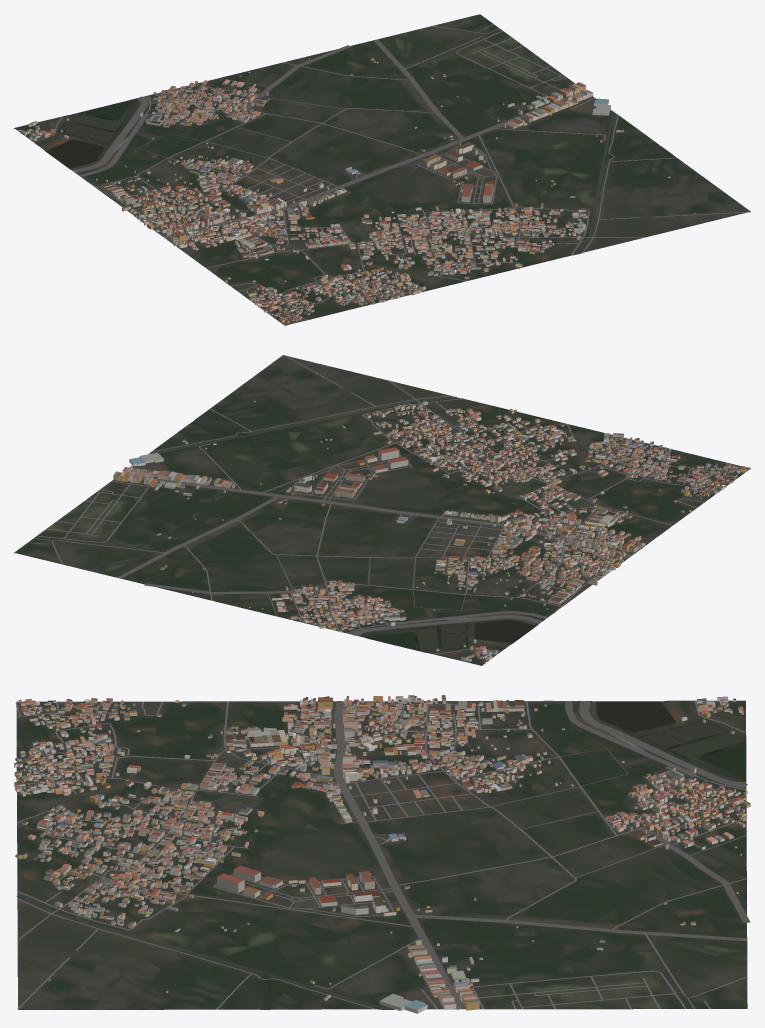
3 renders of one model, top to bottom at view 1: azimuth 30°, elevation 25°; view 2: azimuth 150°, elevation 25°; view 3: azimuth 270°, elevation 25°, orthographic. The views are drawn at different scales.
Parts seen in each view (by area): view 1: ground, buildings, roads, water; view 2: ground, buildings, roads, water; view 3: ground, buildings, roads, water.
Part boxes in pixels (x1,y1,x2,y2): ground: [14, 14, 750, 325]; buildings: [18, 57, 695, 324]; roads: [25, 14, 749, 325]; water: [46, 101, 658, 254]; ground: [14, 355, 750, 665]; buildings: [113, 373, 749, 662]; roads: [14, 355, 748, 657]; water: [158, 396, 535, 651]; ground: [16, 700, 747, 1009]; buildings: [14, 695, 750, 1013]; roads: [15, 700, 750, 1009]; water: [16, 701, 745, 1009].
Bounding box in the file's own units: 1431 × 25.01 × 1416.
